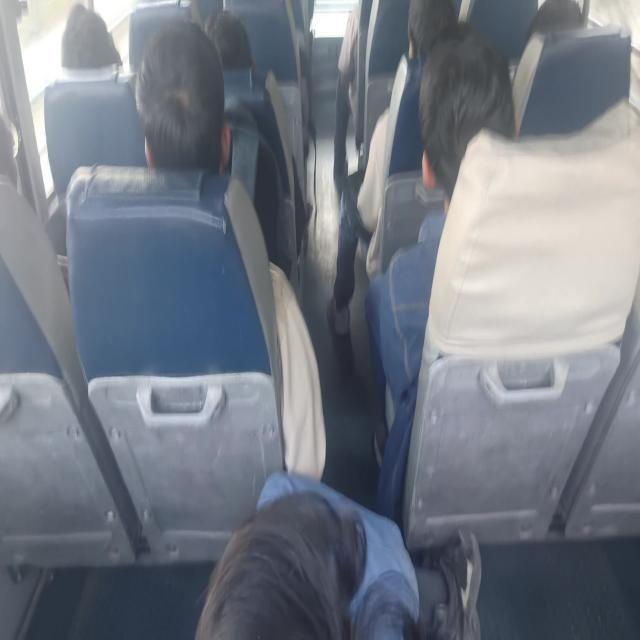person: (188, 484, 435, 640), (131, 18, 246, 180), (424, 46, 508, 215), (392, 2, 462, 64), (191, 14, 259, 76), (57, 8, 121, 72), (524, 0, 592, 46), (0, 110, 32, 202)
